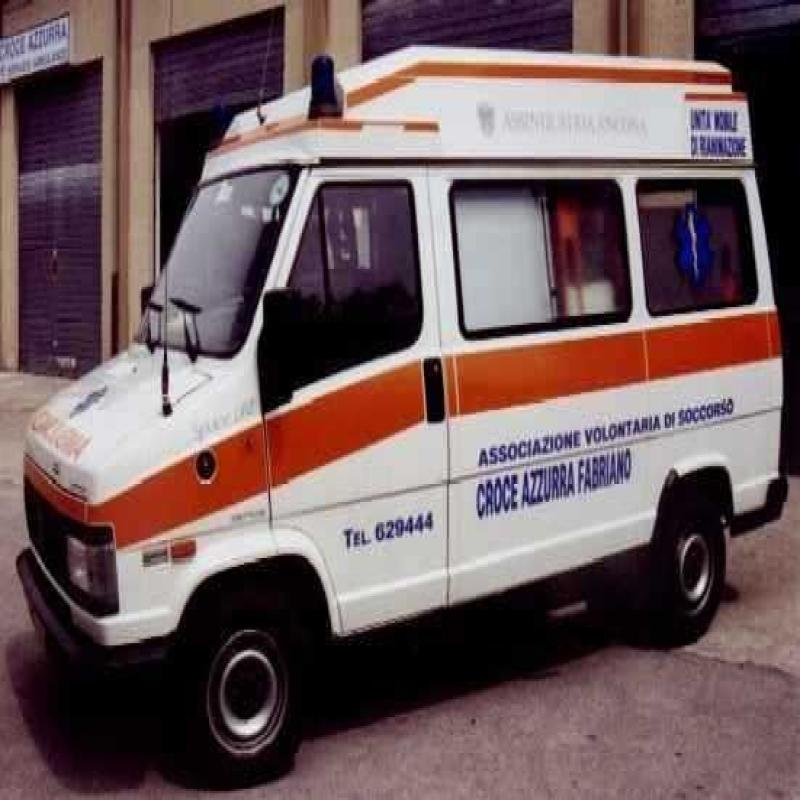AmbulanceSiren: (295, 33, 352, 134)
